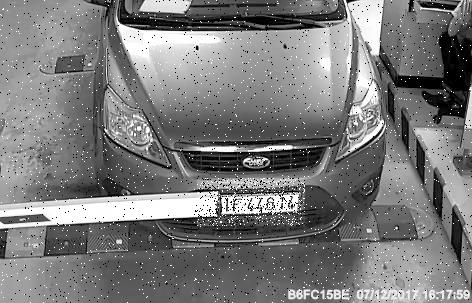License-plate: (198, 179, 306, 227)
